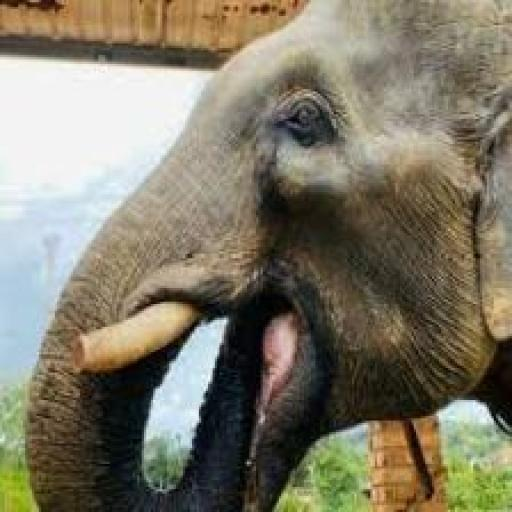Elephant: (20, 11, 511, 511)
